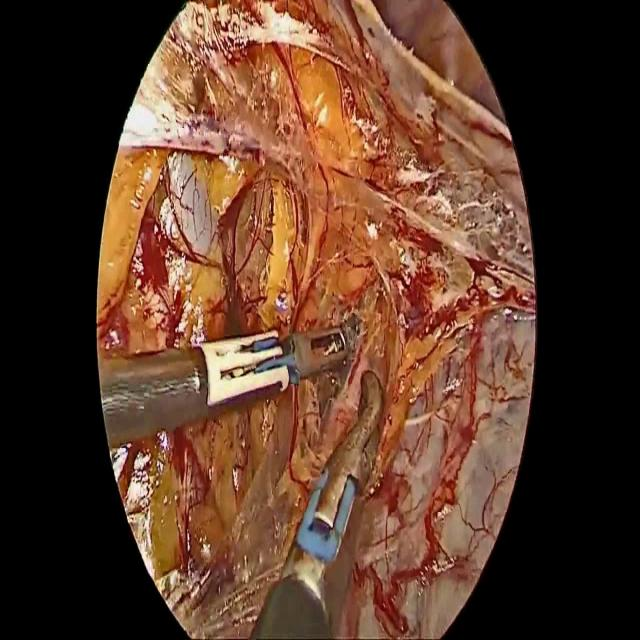surgical-area: (96, 0, 535, 639)
surgical-tool: (248, 369, 384, 639), (98, 324, 348, 443)
